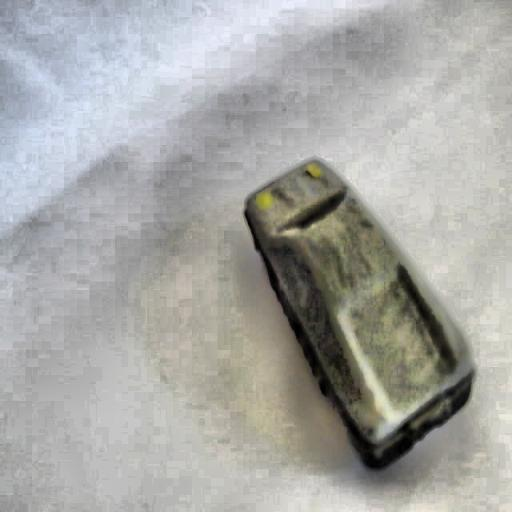normal_car: (240, 156, 476, 472)
